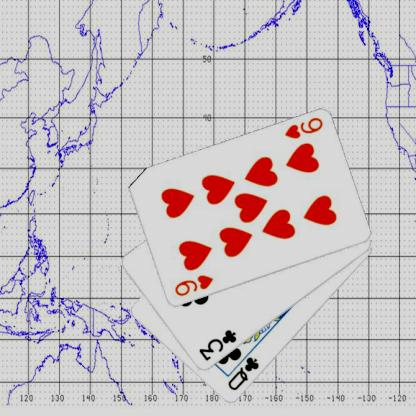3C: (196, 327, 238, 363)
9H: (281, 115, 324, 141), (172, 272, 214, 298)
QC: (225, 354, 261, 392)
